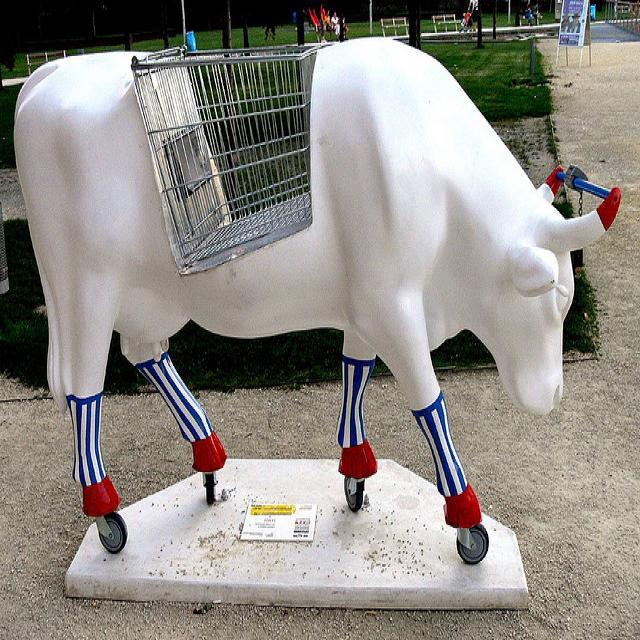cow: (10, 35, 620, 527)
